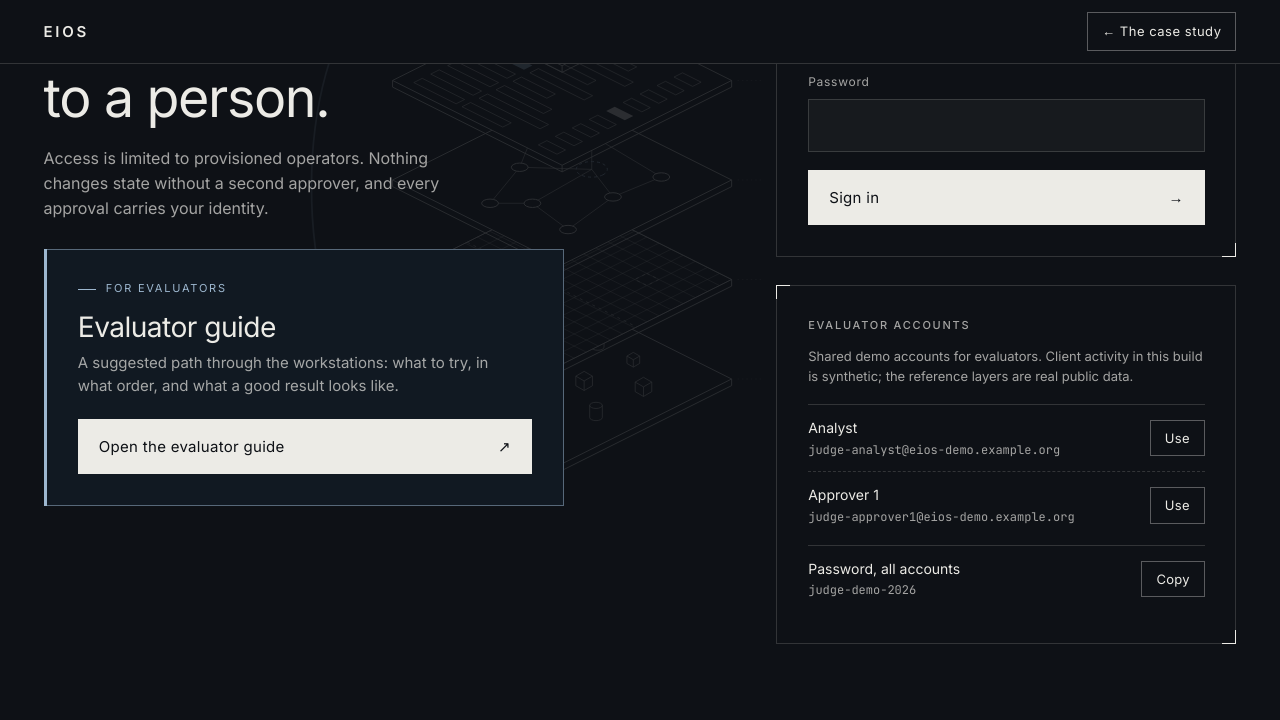
Test: the login page › shows the reviewer card when access is configured, and fills the form from it
The image size is (1280, 720).
(page scrolled)
Expected: the element with test id "reviewer-access" is shown, [776,285,1236,644]
Expected: the text with test id "reviewer-password" reads "judge-demo-2026", [808,582,916,598]
Click the button "Use " in the row of "Approver 1" at (1177, 505), box [1150,487,1205,524]
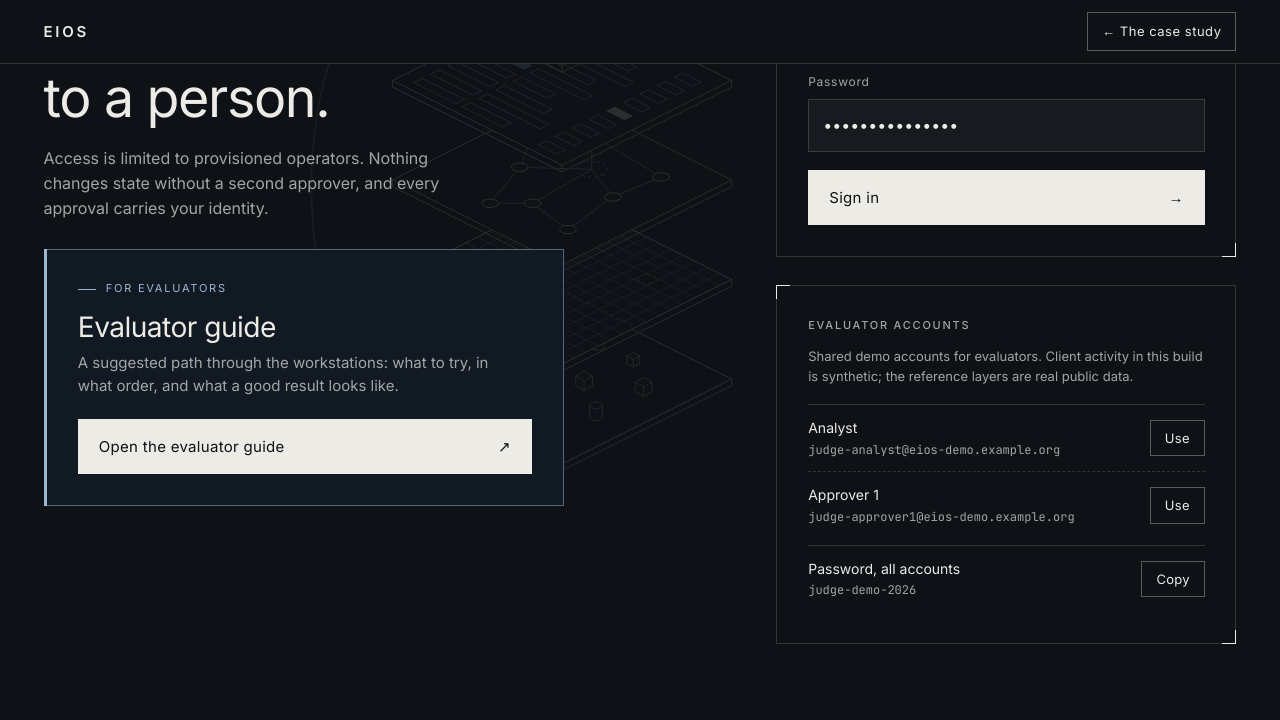
Expected: the field labelled "Email" holds "judge-approver1@eios-demo.example.org", [808,2,1205,55]
Expected: the password field labelled "Password" holds "judge-demo-2026", [808,99,1205,152]
